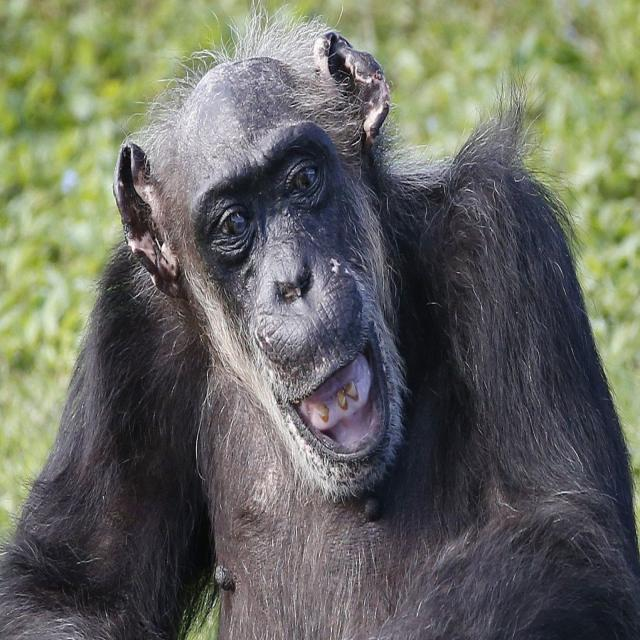Chimpanzee: (41, 69, 602, 640)
